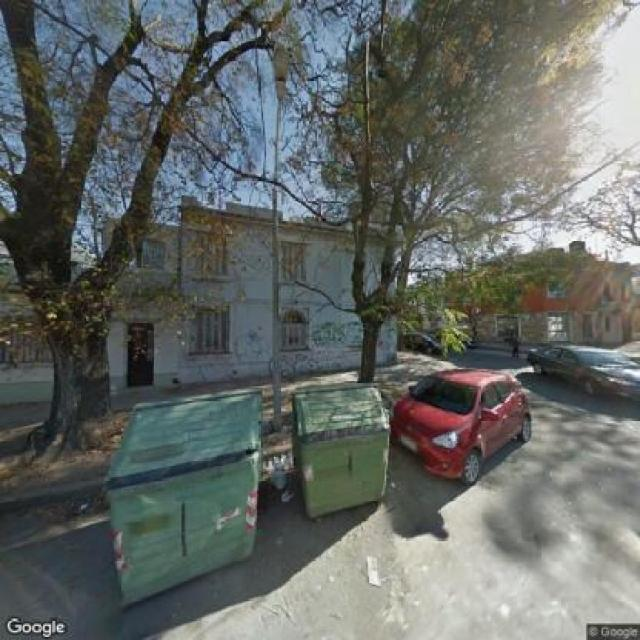garbage: (260, 451, 298, 506)
